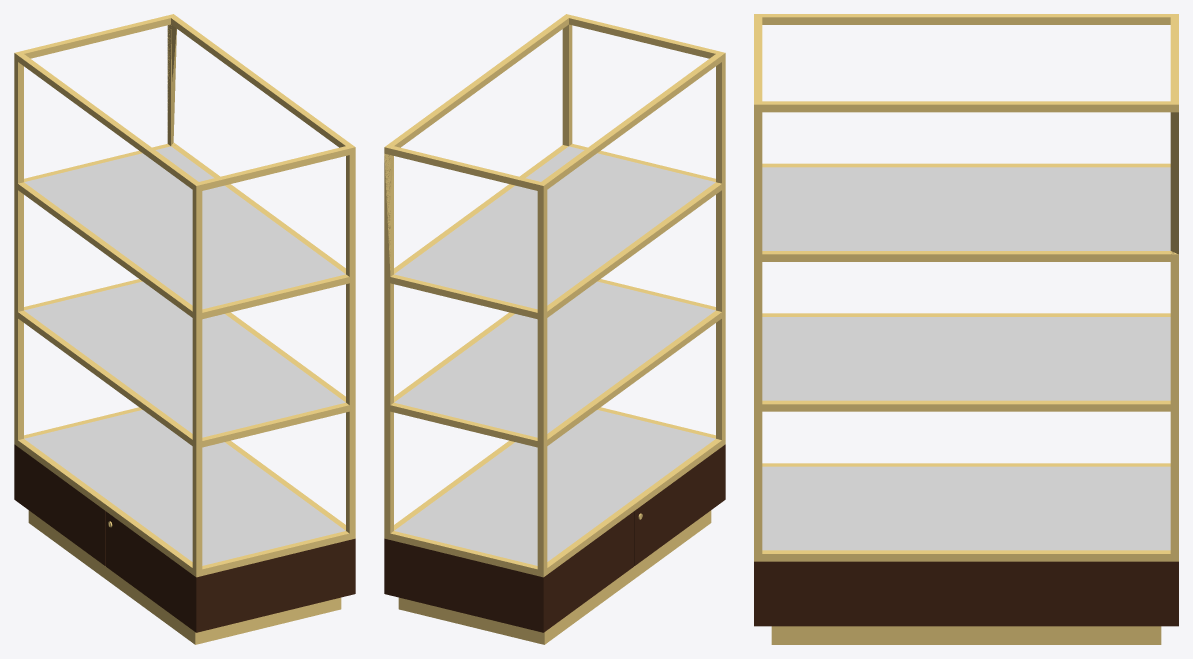
File: etagere.fbx
3 renders of one model, left to right at view 1: azimuth 30°, elevation 25°; view 2: azimuth 150°, elevation 25°; view 3: azimuth 270°, elevation 25°, orthographic. The views are drawn at different scales.
Parts seen in each view (by area): view 1: Cube.002; view 2: Cube.002; view 3: Cube.002.
Boxes of the visible parts, x1,y1,x2,y2 form: Cube.002: (14,14,355,644); Cube.002: (384,14,725,644); Cube.002: (754,14,1178,644).
Bounding box in the file's own units: 313 × 868 × 615.
